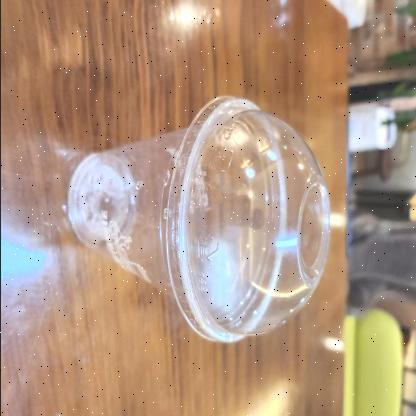Others: (160, 98, 332, 348)
